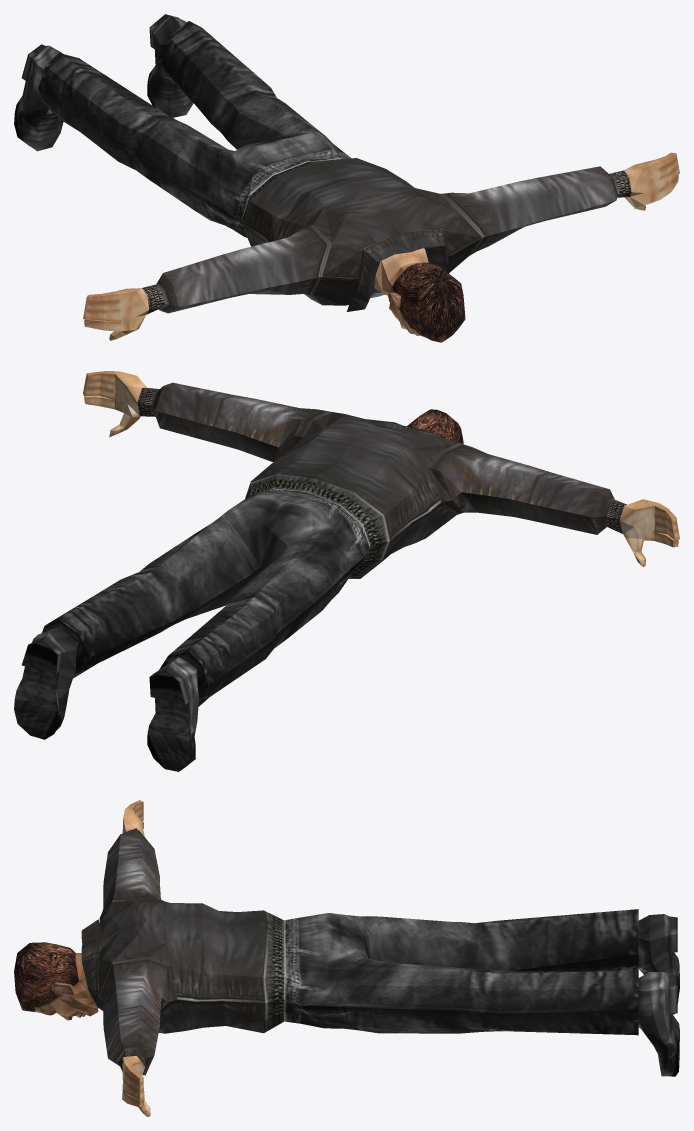
The model's file is thug_rufus_wtf.obj.
3 views of the same model, one above another, from view 1: azimuth 30°, elevation 25°; view 2: azimuth 150°, elevation 25°; view 3: azimuth 270°, elevation 25° (orthographic). The views are drawn at different scales.
Parts seen in each view (by area): view 1: group1; view 2: group1; view 3: group1.
Part boxes in pixels (bbox=[...]): group1: bbox=[14, 14, 679, 342]; group1: bbox=[14, 371, 679, 771]; group1: bbox=[14, 800, 679, 1116].
Size of the model in its own units: 660 by 137 by 659.
